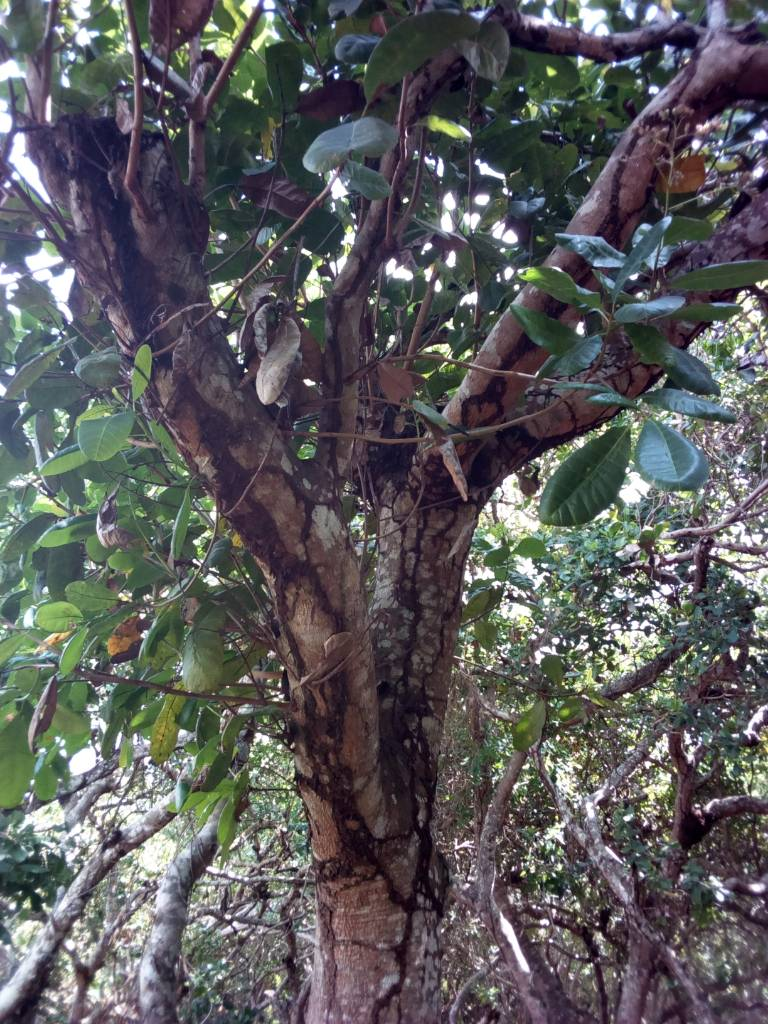Termites: (149, 160, 335, 633), (386, 541, 446, 921)
